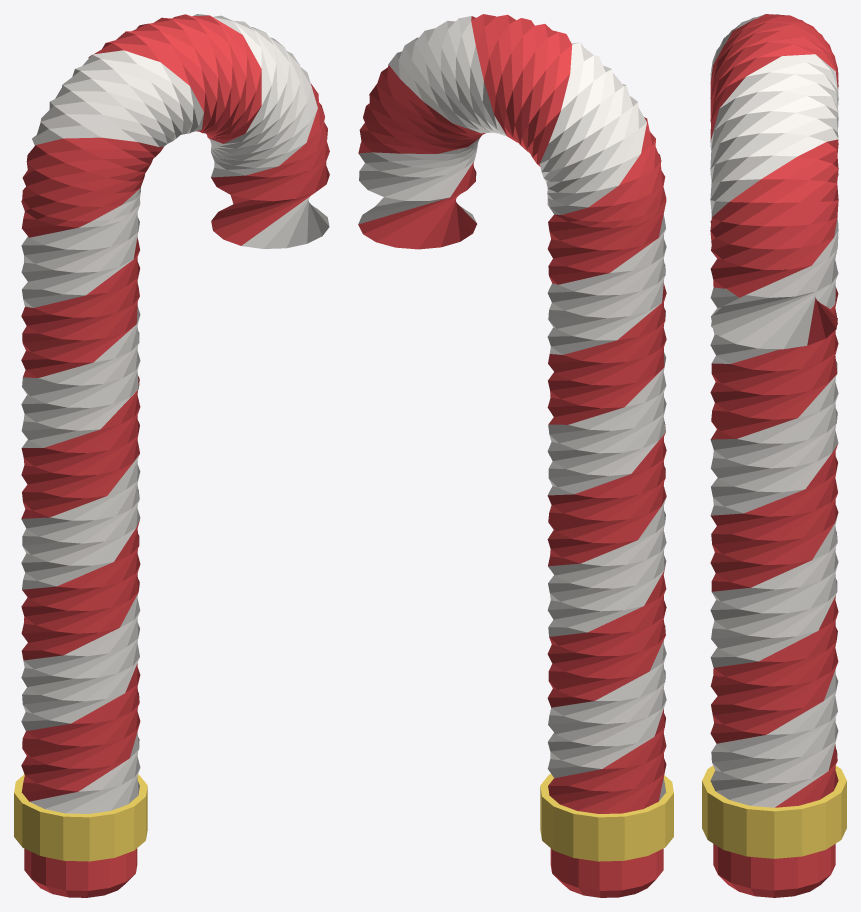
The model's file is GiantCane.glb.
3 renders of one model, left to right at view 1: azimuth 30°, elevation 25°; view 2: azimuth 150°, elevation 25°; view 3: azimuth 270°, elevation 25°, orthographic. The views are drawn at different scales.
Visible parts, largest first — view 1: Red, White, Gold; view 2: Red, White, Gold; view 3: Red, White, Gold.
Part boxes in pixels (x1,y1,x2,y2): Red: (21, 14, 329, 897); White: (21, 14, 329, 813); Gold: (14, 774, 147, 861); Red: (358, 14, 666, 897); White: (358, 16, 666, 800); Gold: (540, 774, 673, 861); Red: (710, 14, 838, 897); White: (710, 14, 838, 807); Gold: (702, 765, 846, 858).
Size of the model in its own units: 3.01 by 8 by 1.17.
